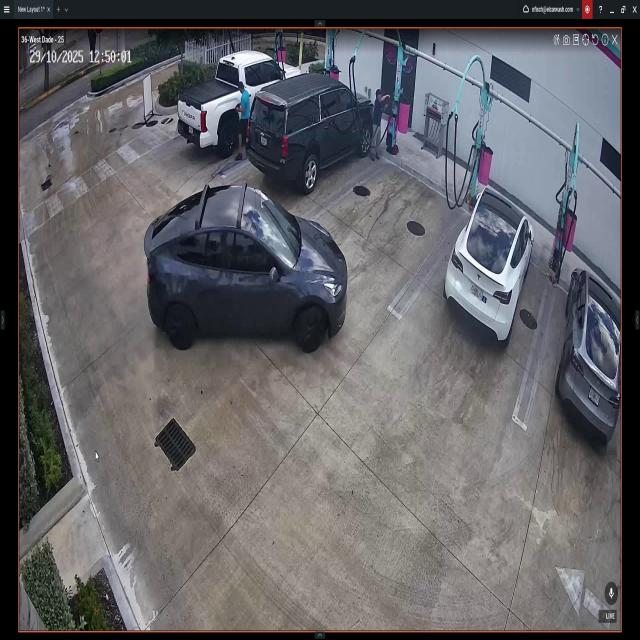Car: (144, 185, 346, 349), (445, 185, 535, 342), (251, 74, 374, 188), (178, 56, 302, 156), (555, 263, 621, 441)
